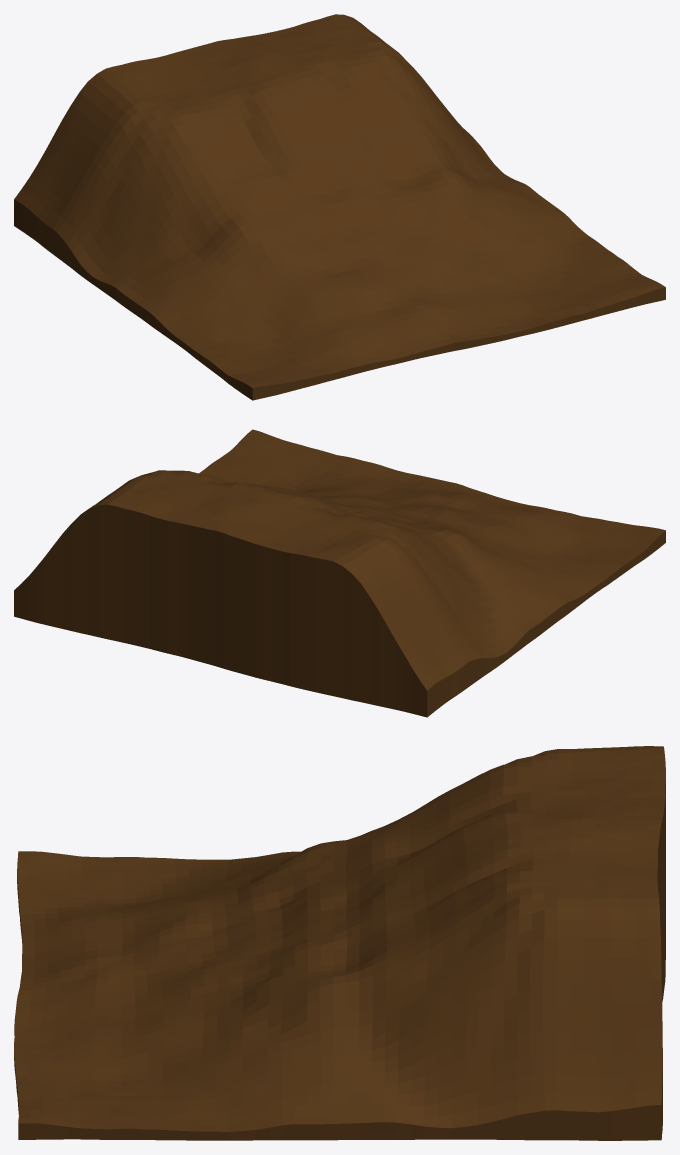
The picture shows the model from 3 angles, top to bottom: view 1: azimuth 30°, elevation 25°; view 2: azimuth 150°, elevation 25°; view 3: azimuth 270°, elevation 25°; orthographic projection. The views are drawn at different scales.
Parts seen in each view (by area): view 1: J-9; view 2: J-9; view 3: J-9.
Part boxes in pixels (x1,y1,x2,y2): J-9: (14, 14, 665, 400); J-9: (14, 429, 665, 717); J-9: (14, 746, 665, 1140).
Size of the model in its own units: 7070 by 2246 by 7129.
